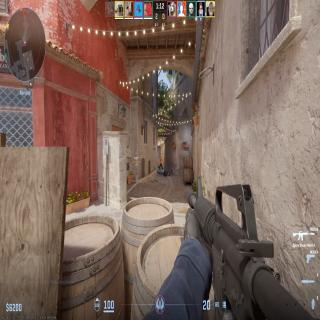T-Body: (160, 158, 163, 171)
T-Head: (160, 159, 162, 162)
